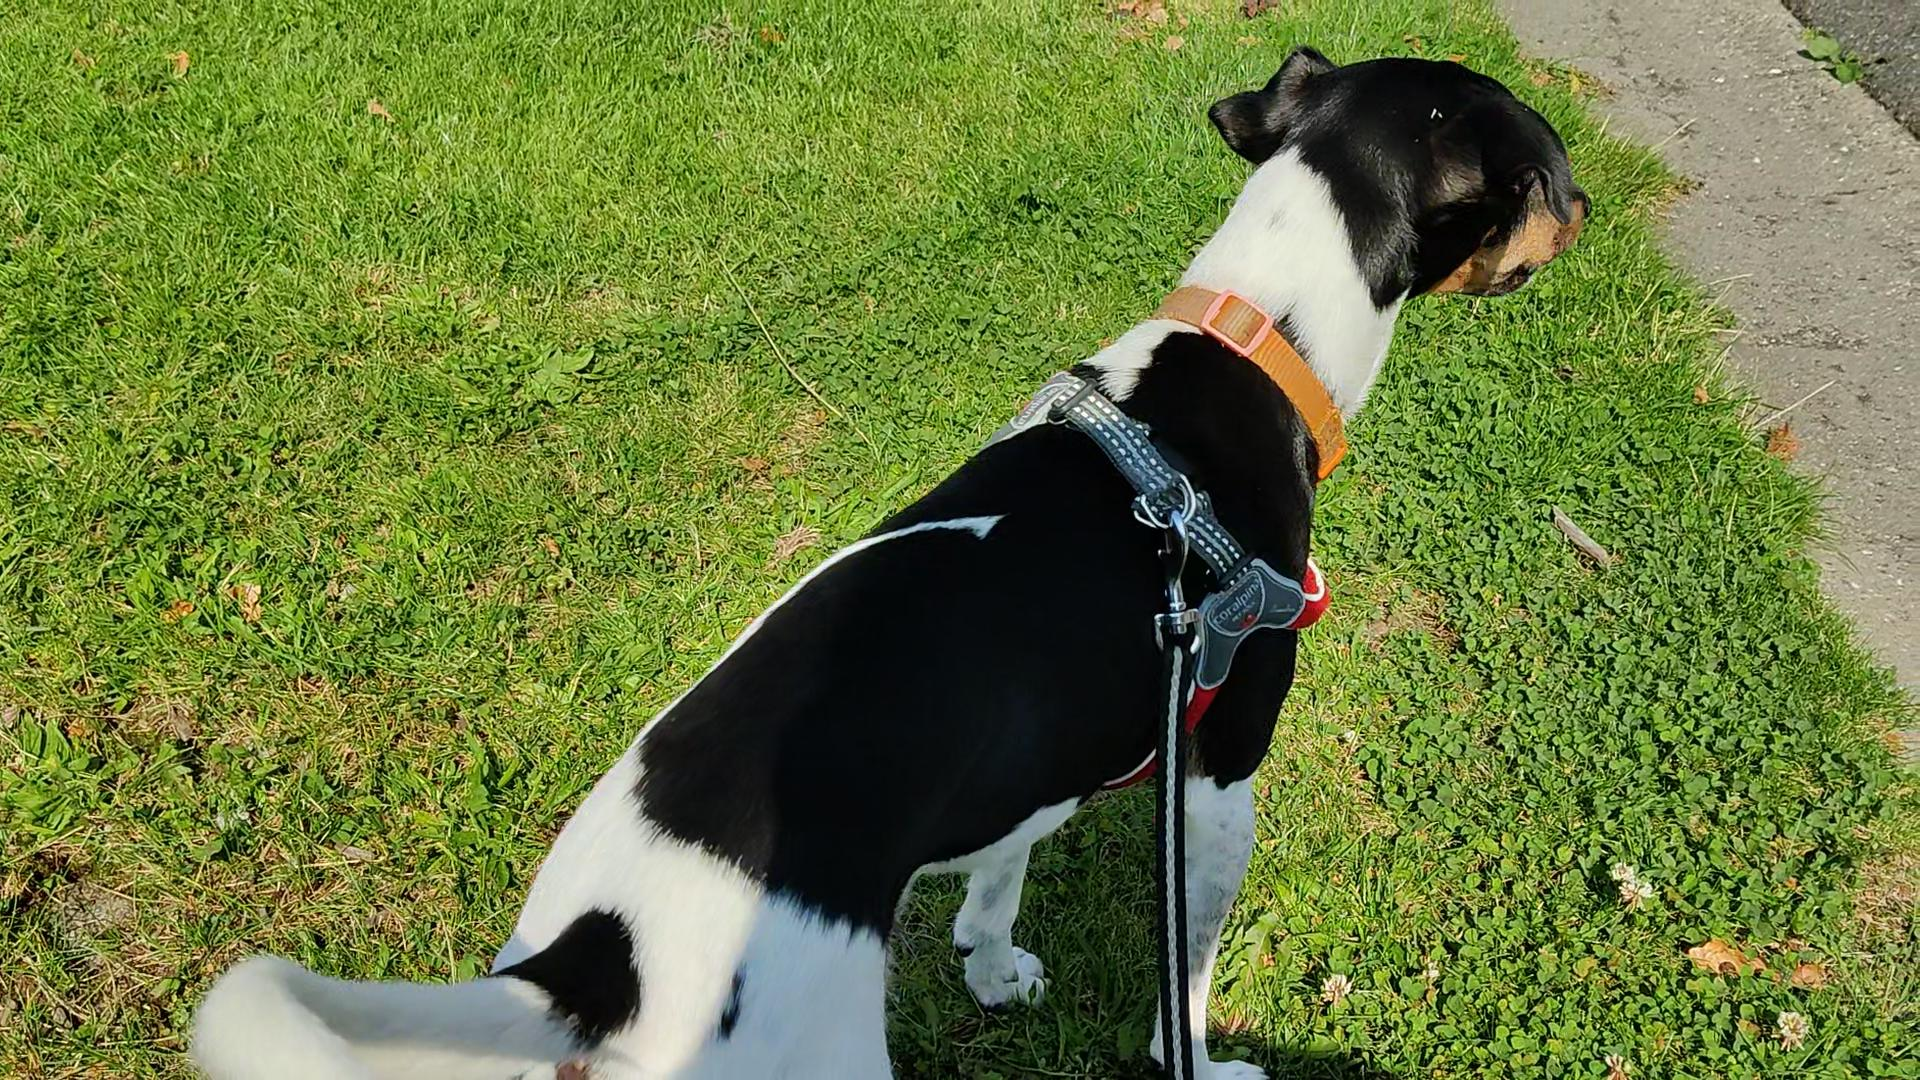Dog: (171, 42, 1596, 1079)
